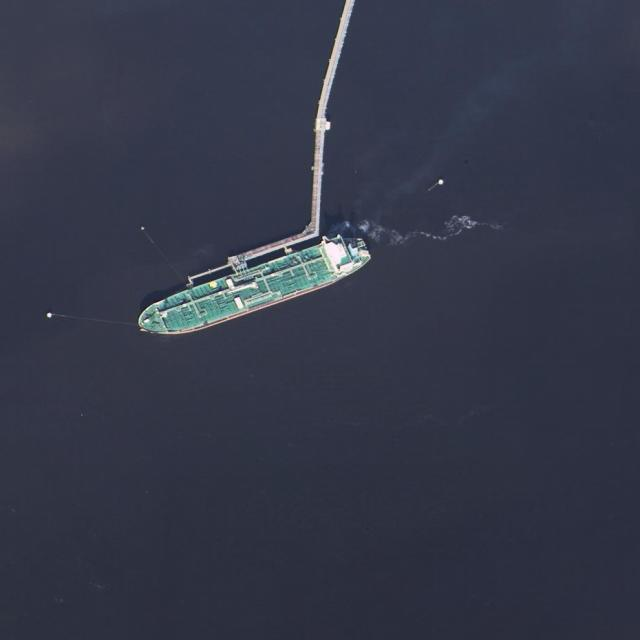Dock: (185, 227, 320, 285)
Oil Tanker: (128, 224, 383, 350)
